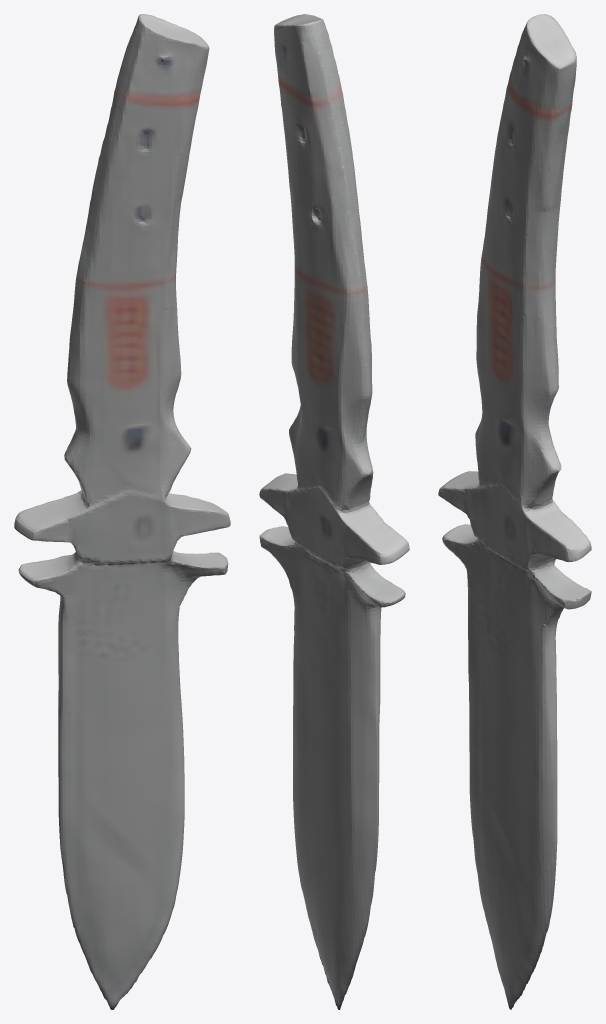
3 views of the same model, side by side, from view 1: azimuth 30°, elevation 25°; view 2: azimuth 150°, elevation 25°; view 3: azimuth 330°, elevation 25° (orthographic). The views are drawn at different scales.
Parts seen in each view (by area): view 1: world; view 2: world; view 3: world.
Boxes of the visible parts, box(x1,y1,x2,y2) form: world: box(14, 14, 230, 1009); world: box(259, 14, 409, 1009); world: box(438, 14, 591, 1009).
Bounding box in the file's own units: 0.1813 × 0.9981 × 0.104.
